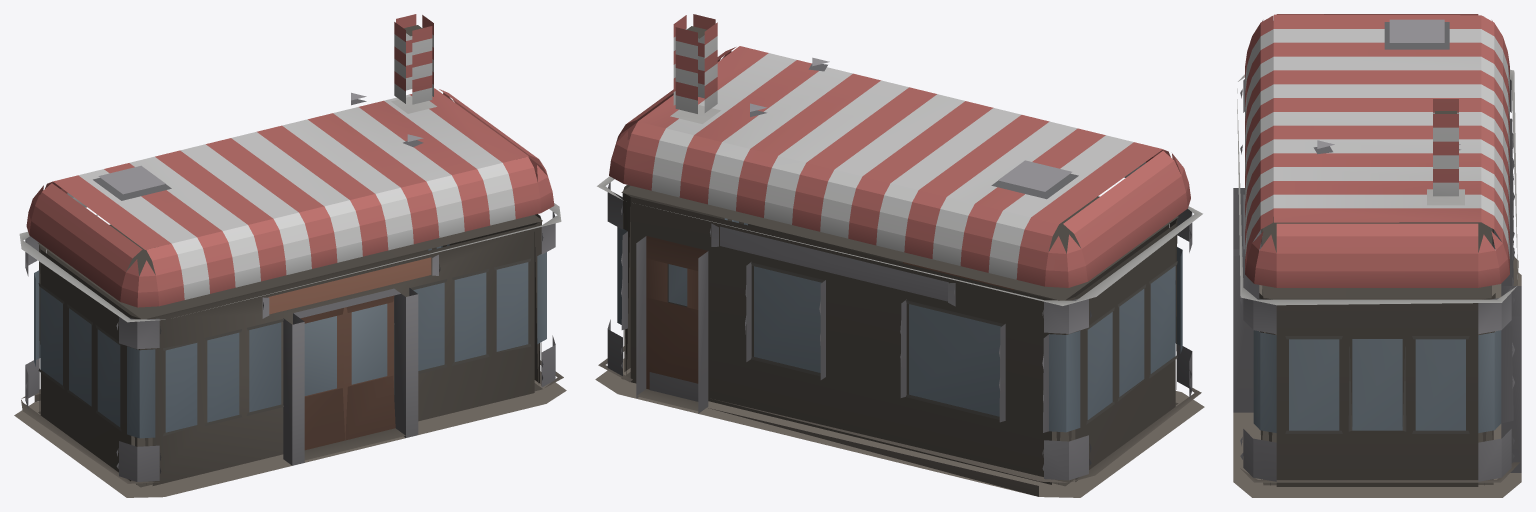
File: diner.lod.glb
3 renders of one model, left to right at view 1: azimuth 30°, elevation 25°; view 2: azimuth 150°, elevation 25°; view 3: azimuth 270°, elevation 25°, orthographic. The views are drawn at different scales.
Visible parts, largest first — view 1: diner; view 2: diner; view 3: diner.
Boxes of the visible parts, x1,y1,x2,y2 form: diner: [14, 14, 566, 497]; diner: [595, 14, 1204, 497]; diner: [1233, 14, 1521, 497].
Bounding box in the file's own units: 7.96 × 5.45 × 4.
